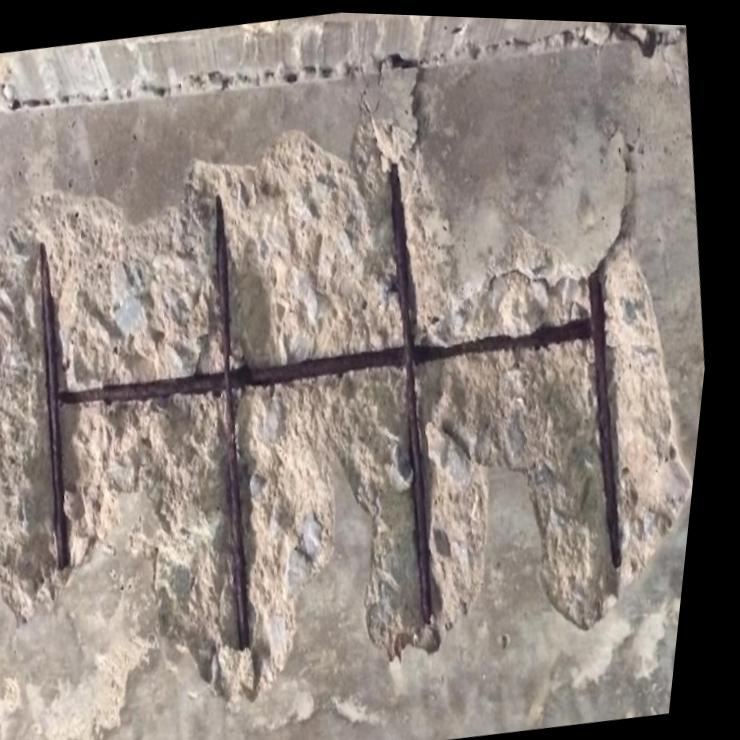damage: (0, 123, 703, 698), (402, 151, 595, 339), (0, 60, 17, 108)
